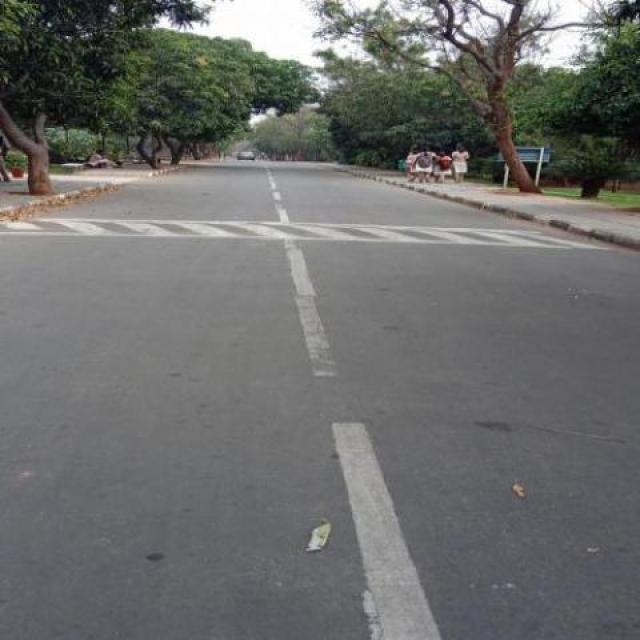Speed Bump: (0, 218, 612, 252)
